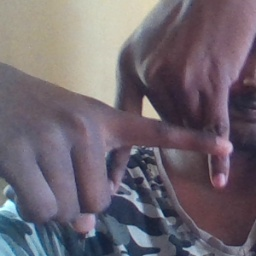H: (82, 55, 237, 199)
